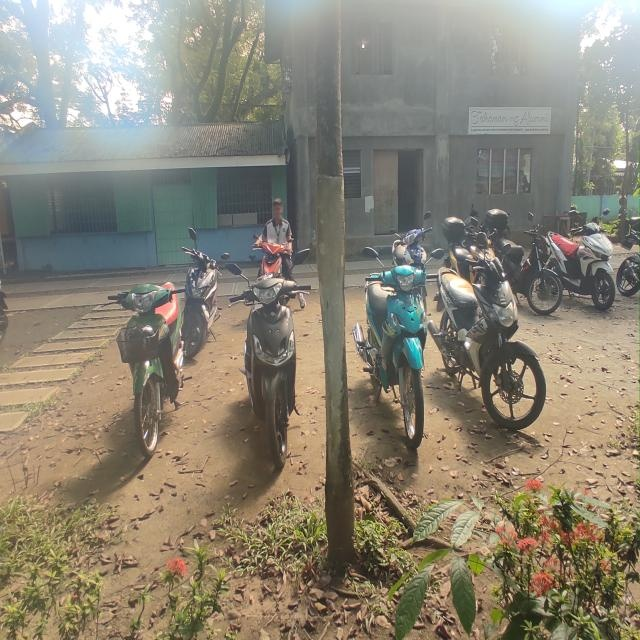Motorcycle: (434, 263, 547, 438), (360, 265, 437, 450), (107, 273, 178, 467), (238, 278, 302, 466), (550, 216, 617, 322), (505, 232, 566, 308), (182, 246, 222, 359)
